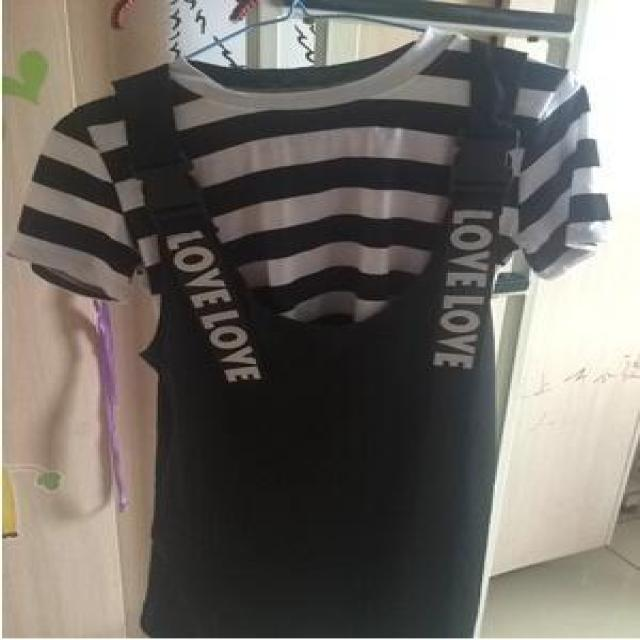short-sleeve-dress: (40, 35, 640, 478)
